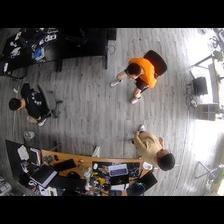normal: (109, 50, 159, 106), (128, 120, 177, 174), (8, 80, 61, 127)
